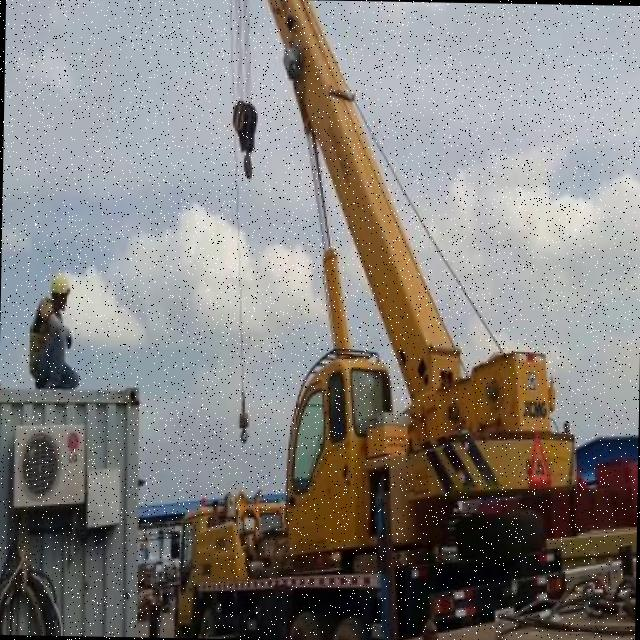Mobile Crane: (174, 0, 584, 640)
